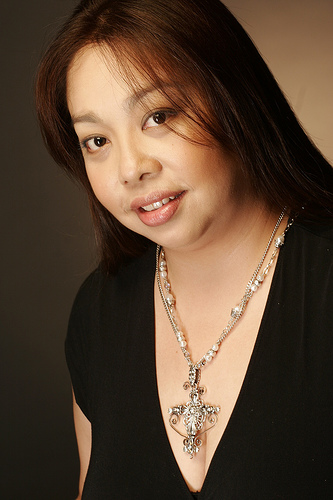without_mask: (58, 39, 248, 248)
